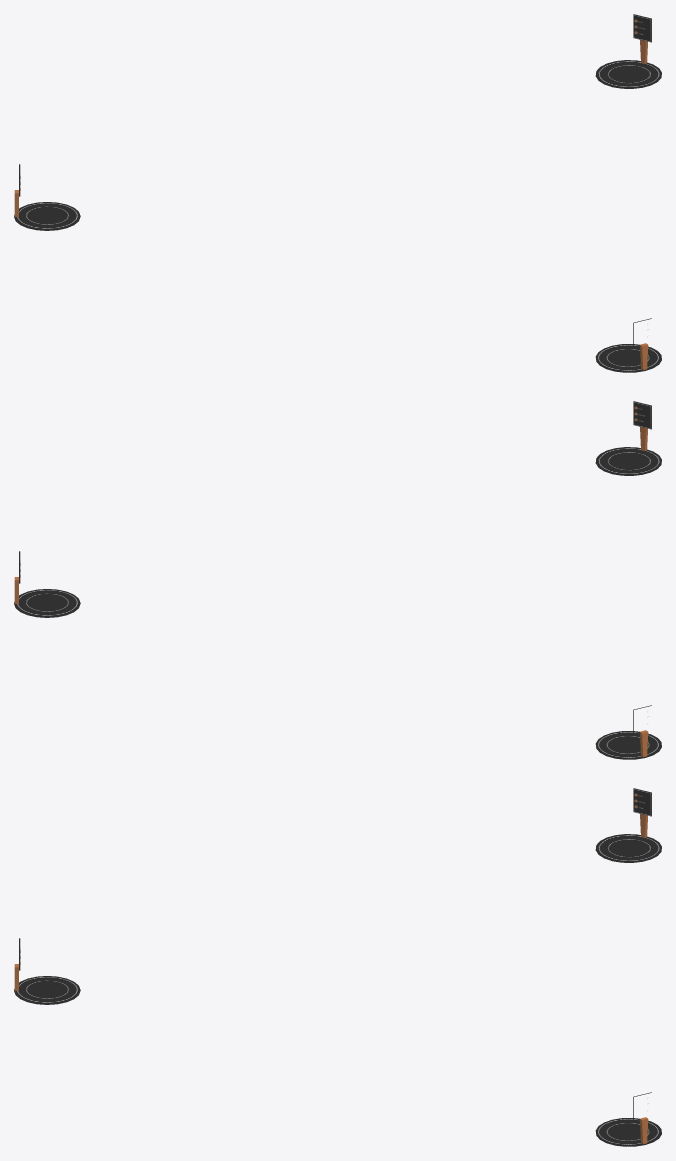
Rendered from PiattaformaAscensore.glb.
3 renders of one model, top to bottom at view 1: azimuth 30°, elevation 25°; view 2: azimuth 150°, elevation 25°; view 3: azimuth 270°, elevation 25°, orthographic.
Visible parts, largest first — view 1: piattaforma_ascensore_g3; view 2: piattaforma_ascensore_g3; view 3: piattaforma_ascensore_g3.
Boxes of the visible parts, bbox=[...] form: piattaforma_ascensore_g3: bbox=[14, 14, 661, 372]; piattaforma_ascensore_g3: bbox=[14, 401, 661, 759]; piattaforma_ascensore_g3: bbox=[14, 788, 661, 1146].
Size of what is drawn, in the model's own units: 26.12 by 1.89 by 22.95.
Materials: 1 (1 with a texture image).
